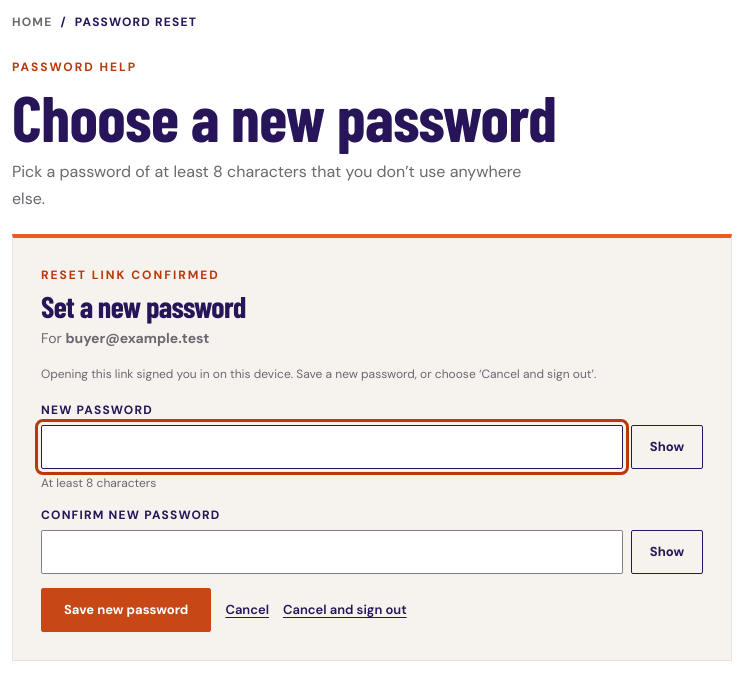
it: ResetPasswordPage head (AW-255) › says “Password updated” once the password is saved
Type "a-new-password-1" into the password field labelled "New password" at (332, 447), box [41,425,623,469]
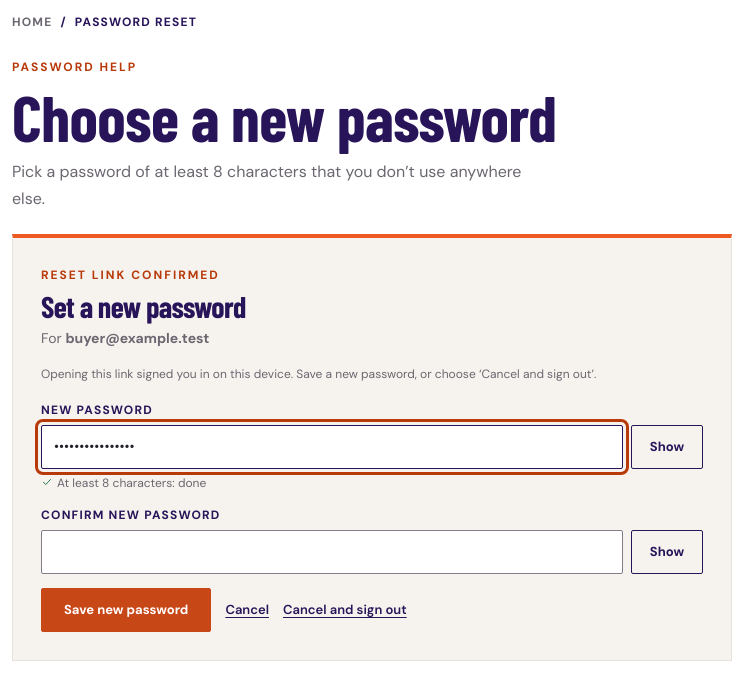
Type "a-new-password-1" into the password field labelled "Confirm new password" at (332, 552), box [41,530,623,574]
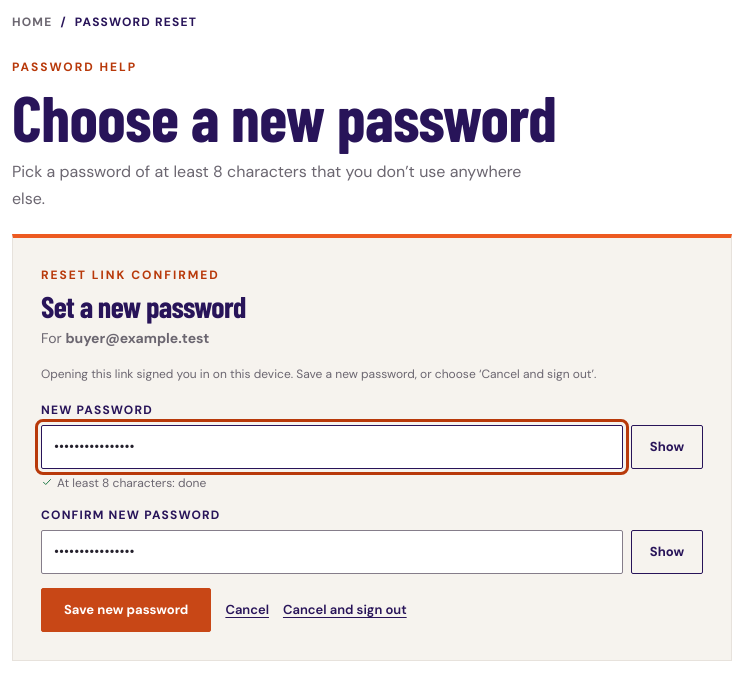
Click the button "Save new password" at (126, 610), box [41,588,211,632]
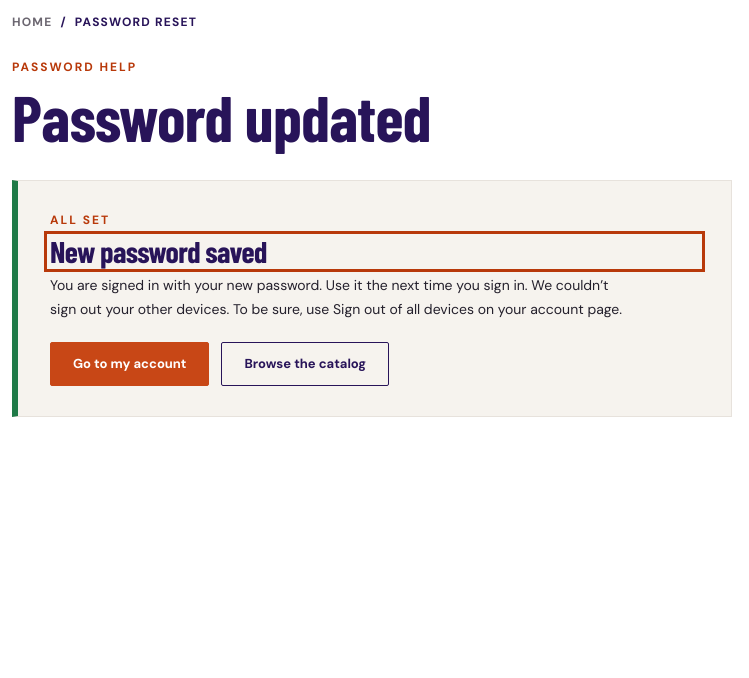
expect the heading "Choose a new password" is gone: met
